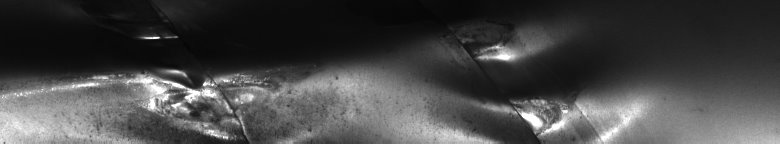ke: (454, 36, 586, 136)
